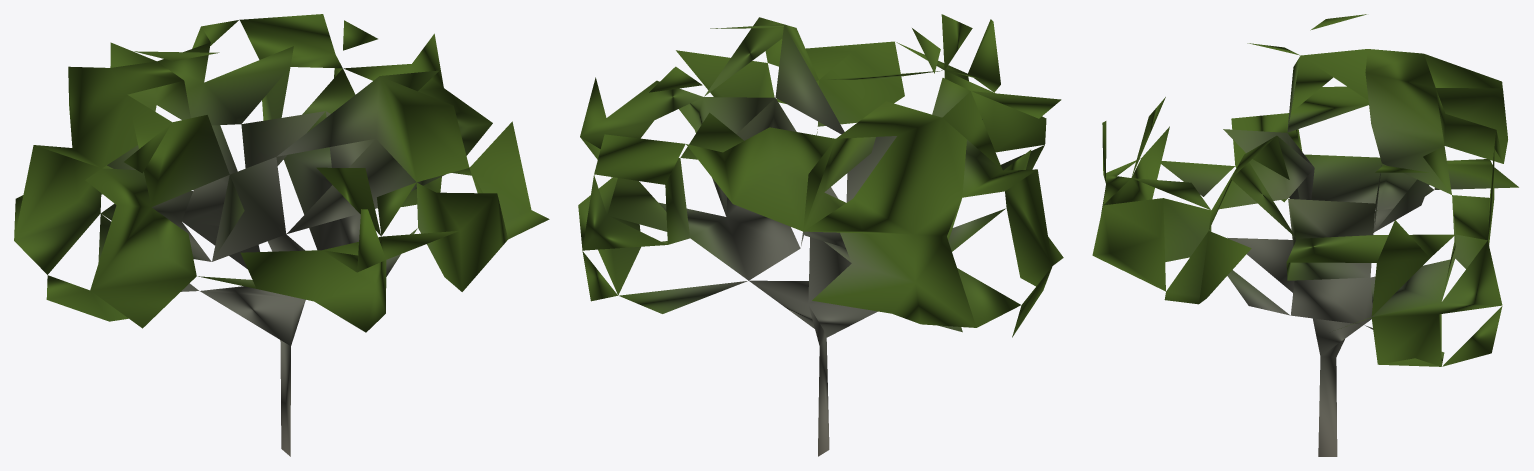
Rendered from zelkova.3.glb.
3 views of the same model, side by side, from view 1: azimuth 30°, elevation 25°; view 2: azimuth 150°, elevation 25°; view 3: azimuth 270°, elevation 25° (orthographic). The views are drawn at different scales.
Parts seen in each view (by area): view 1: lod; view 2: lod; view 3: lod.
Part boxes in pixels (bbox=[...]): lod: bbox=[14, 14, 549, 456]; lod: bbox=[578, 14, 1063, 456]; lod: bbox=[1092, 14, 1518, 456].
Bounding box in the file's own units: 0.8296 × 0.8196 × 0.8083.
